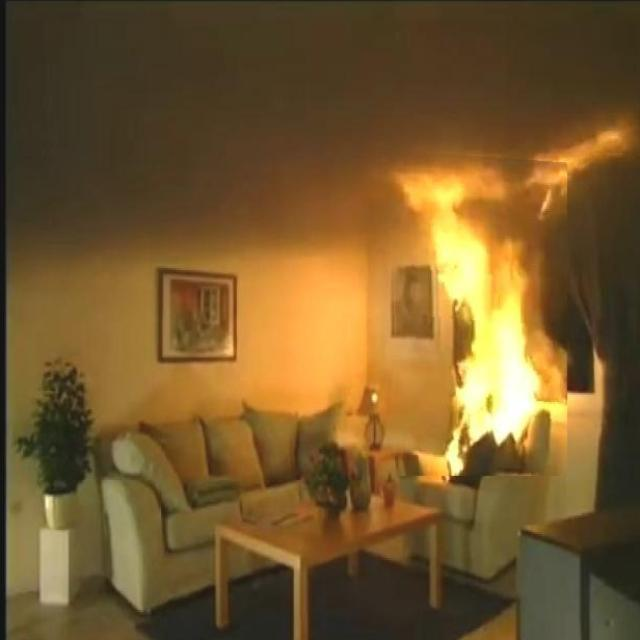smoke: (403, 150, 567, 476)
